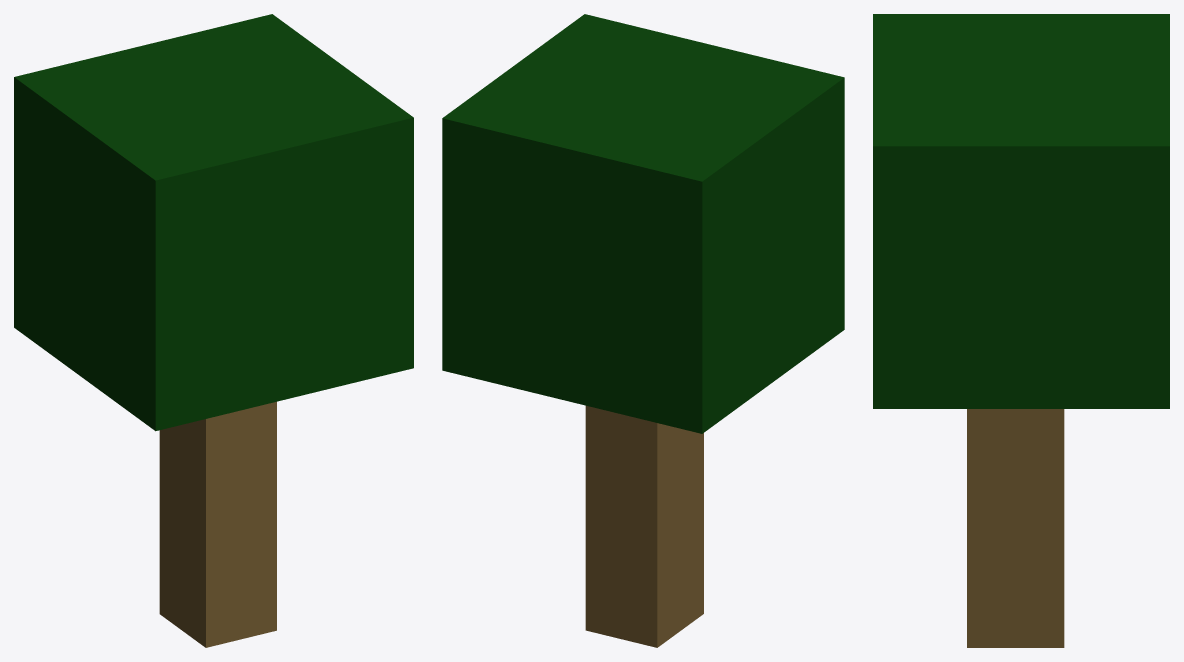
The model's file is tree7.FBX.
3 views of the same model, side by side, from view 1: azimuth 30°, elevation 25°; view 2: azimuth 150°, elevation 25°; view 3: azimuth 270°, elevation 25° (orthographic). The views are drawn at different scales.
Visible parts, largest first — view 1: tree7; view 2: tree7; view 3: tree7.
Part boxes in pixels (x1=…): tree7: x1=14, y1=14, x2=413, y2=647; tree7: x1=442, y1=14, x2=844, y2=647; tree7: x1=873, y1=14, x2=1169, y2=647.
Size of the model in its own units: 3.56 by 6.88 by 3.37.
